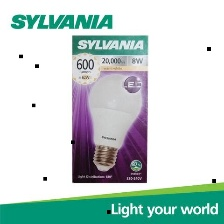book: (67, 33, 151, 185)
